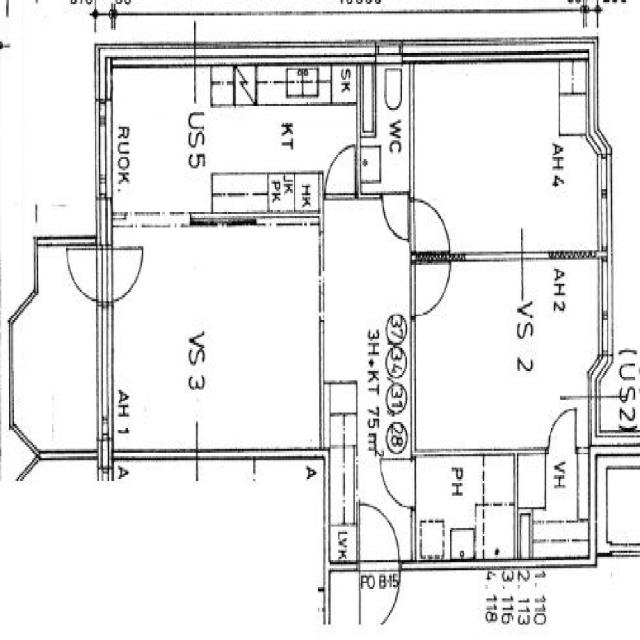door: (357, 499, 399, 566), (411, 256, 450, 320), (410, 194, 452, 251), (65, 245, 103, 303), (106, 245, 143, 303), (323, 140, 359, 197), (379, 458, 416, 509), (545, 402, 580, 455), (380, 192, 411, 242)
window: (94, 304, 115, 431), (592, 152, 615, 256), (3, 320, 24, 426), (592, 255, 614, 354), (94, 112, 112, 199), (14, 428, 41, 480)
zone: (410, 62, 597, 254), (415, 264, 598, 453), (201, 73, 358, 213), (14, 244, 102, 460), (108, 65, 206, 222), (414, 454, 493, 561), (519, 446, 591, 562), (360, 58, 410, 196), (595, 351, 640, 438), (245, 66, 340, 104), (602, 460, 640, 552)
